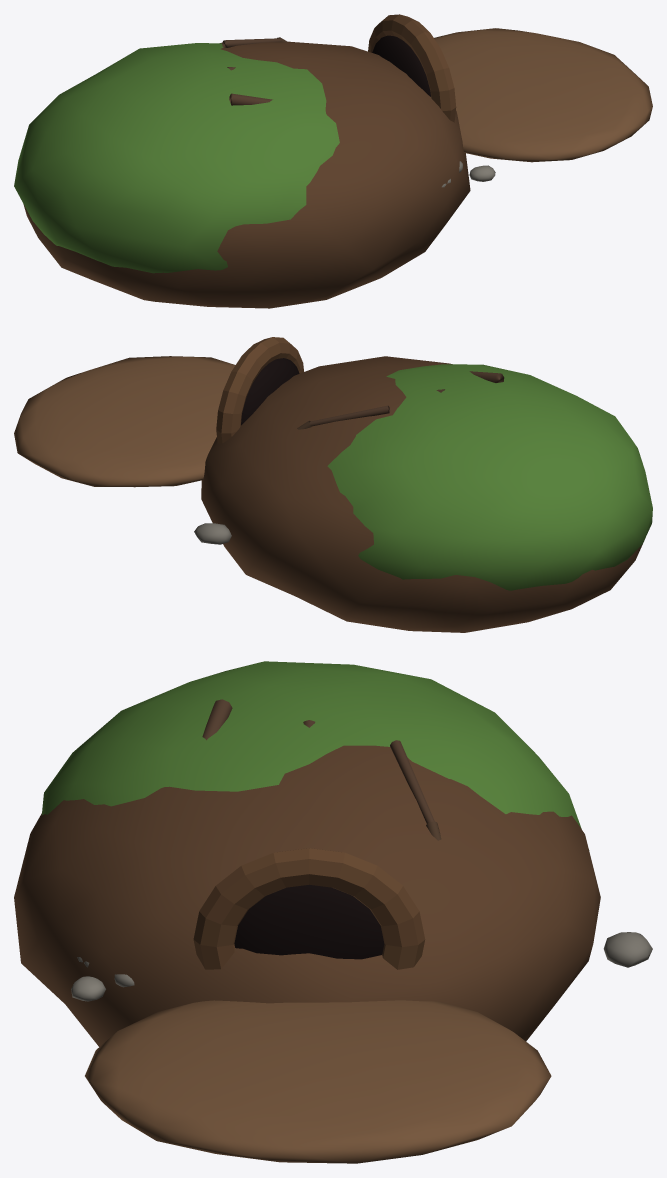
The model's file is fauna.glb.
3 views of the same model, one above another, from view 1: azimuth 30°, elevation 25°; view 2: azimuth 150°, elevation 25°; view 3: azimuth 270°, elevation 25° (orthographic). The views are drawn at different scales.
Parts seen in each view (by area): view 1: den; view 2: den; view 3: den.
Part boxes in pixels (x1,y1,x2,y2): den: (14, 14, 652, 308); den: (14, 337, 652, 632); den: (14, 661, 652, 1163).
Size of the model in its own units: 2.26 by 0.7959 by 1.43.
